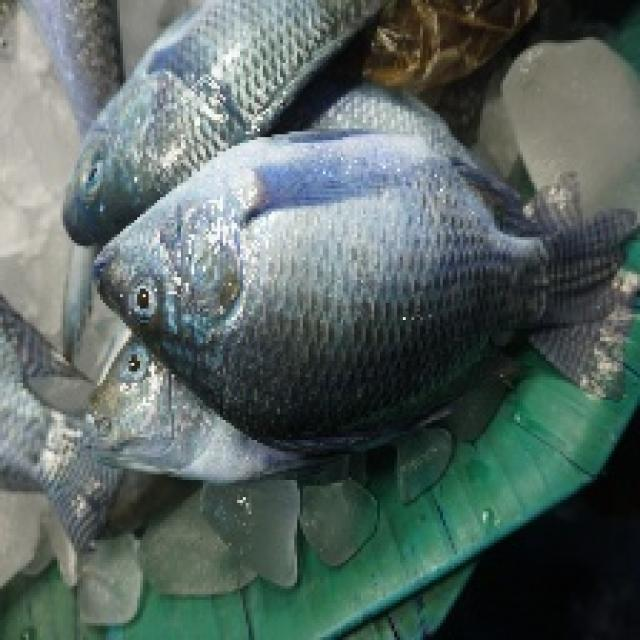Fresh: (85, 123, 640, 403), (51, 314, 291, 498), (79, 32, 316, 215)
